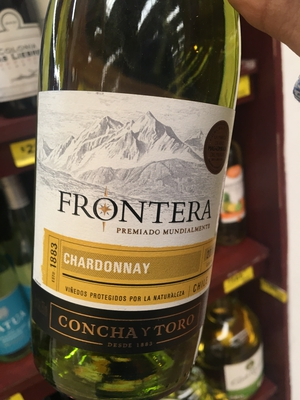frontera chardonnay: (28, 17, 253, 400)
